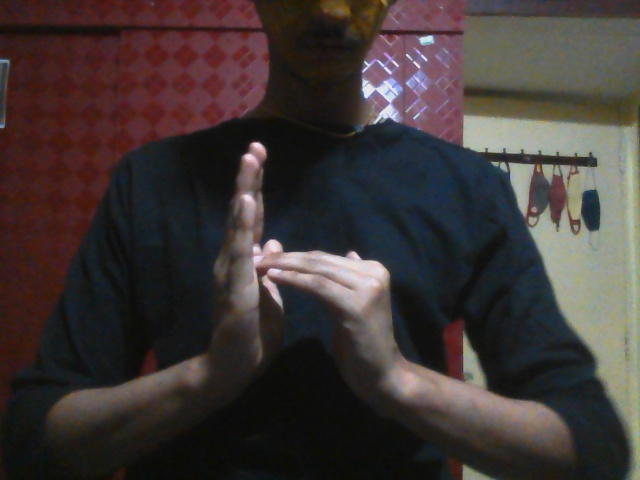Z: (205, 140, 402, 401)
